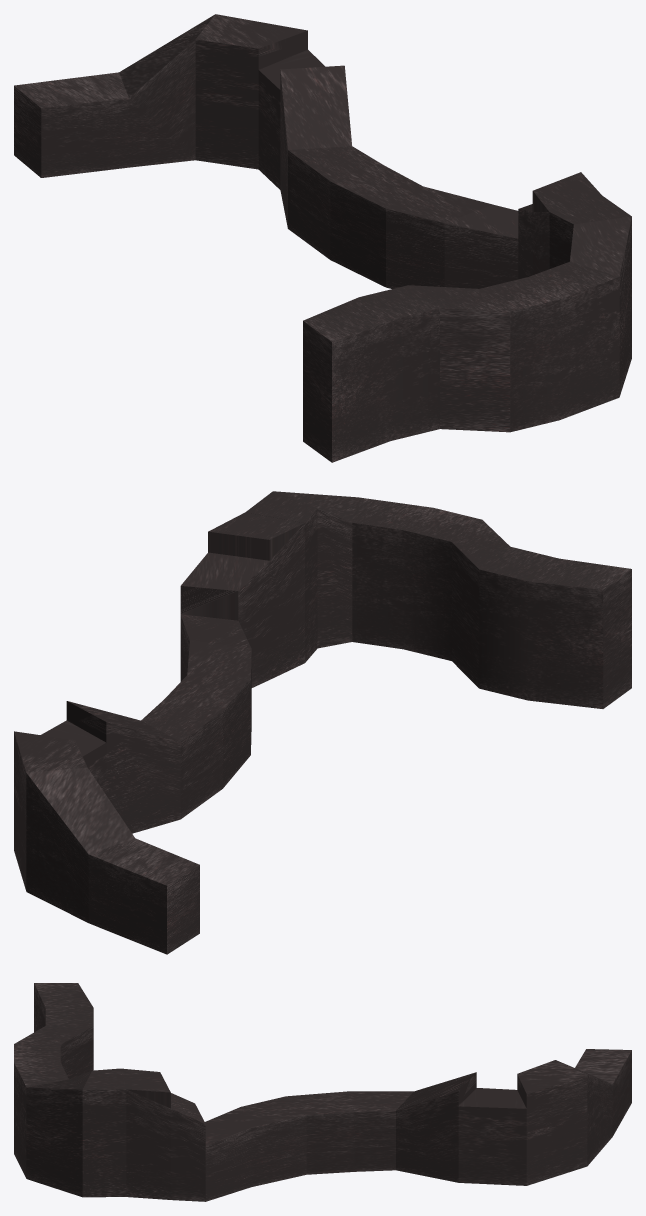
File: Stage.FBX
The picture shows the model from 3 angles, top to bottom: view 1: azimuth 30°, elevation 25°; view 2: azimuth 150°, elevation 25°; view 3: azimuth 270°, elevation 25°; orthographic projection. The views are drawn at different scales.
Parts seen in each view (by area): view 1: Box002; view 2: Box002; view 3: Box002.
Part boxes in pixels (x1,y1,x2,y2): Box002: (14,14,631,462); Box002: (14,491,631,954); Box002: (14,983,631,1201).
Bounding box in the file's own units: 115 × 45.29 × 236.
